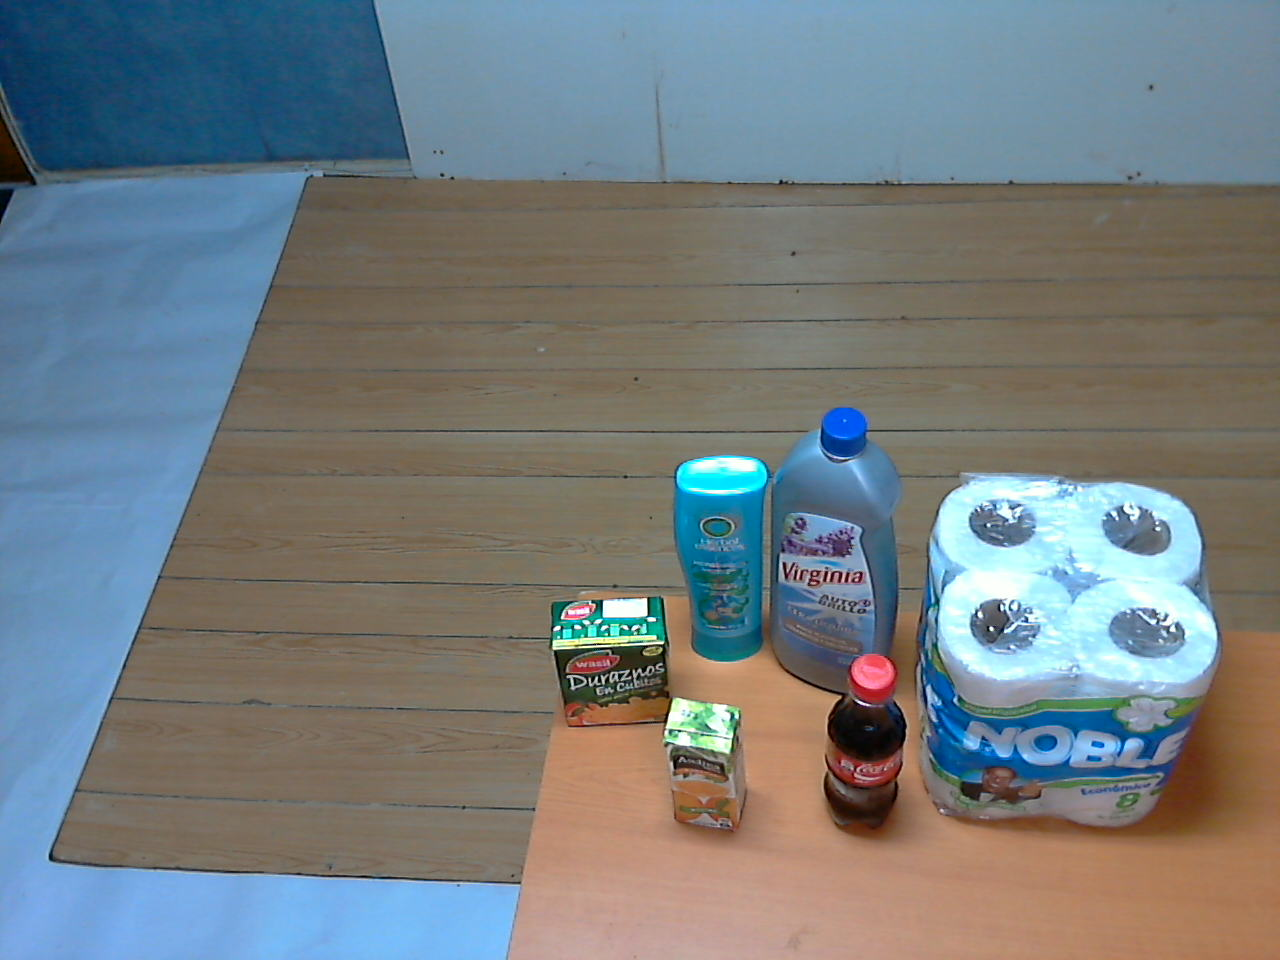balsamo: (670, 450, 777, 669)
cera: (761, 398, 913, 707)
coca: (813, 651, 916, 838)
confort: (904, 472, 1223, 844)
durazno: (544, 588, 677, 735)
jugoind: (660, 691, 752, 844)
